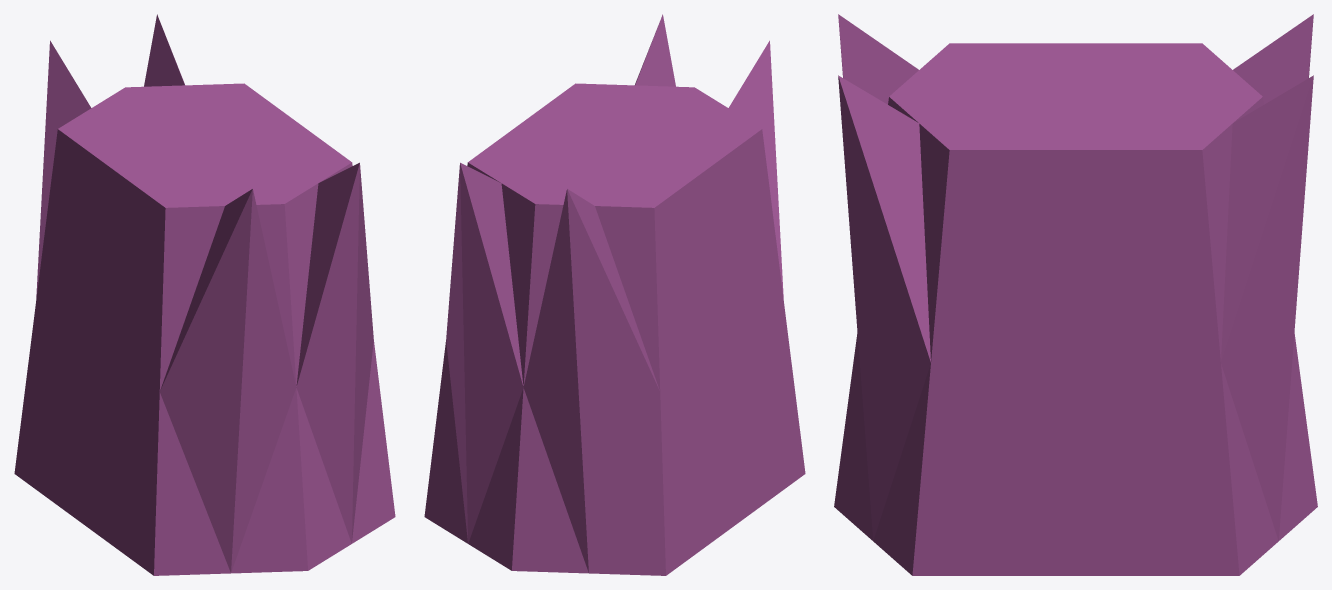
File: CrystalTorso.fbx
3 views of the same model, side by side, from view 1: azimuth 30°, elevation 25°; view 2: azimuth 150°, elevation 25°; view 3: azimuth 270°, elevation 25° (orthographic). The views are drawn at different scales.
Visible parts, largest first — view 1: Torso Armour Crystal; view 2: Torso Armour Crystal; view 3: Torso Armour Crystal.
Part boxes in pixels (x1,y1,x2,y2): Torso Armour Crystal: [14, 14, 395, 575]; Torso Armour Crystal: [424, 14, 805, 575]; Torso Armour Crystal: [834, 14, 1317, 575].
Bounding box in the file's own units: 204 × 319 × 302.
